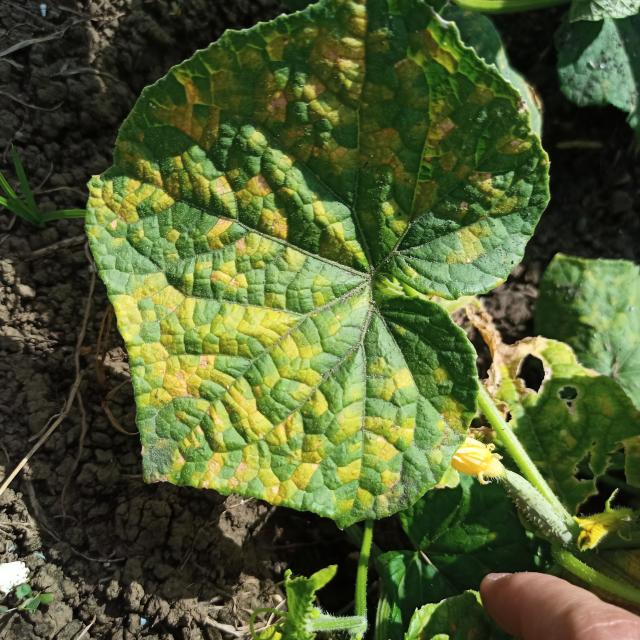disease_cucumber: (96, 13, 536, 511)
